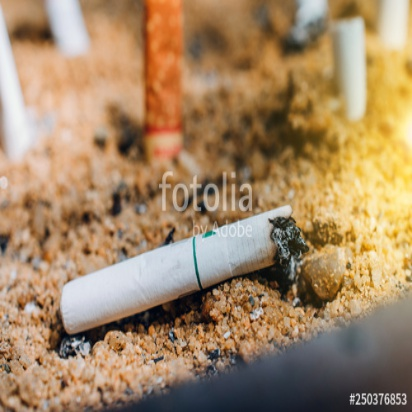cigarette: (54, 202, 314, 340), (130, 1, 189, 171), (1, 1, 33, 169), (331, 19, 372, 122), (45, 1, 94, 58), (376, 1, 408, 50)
